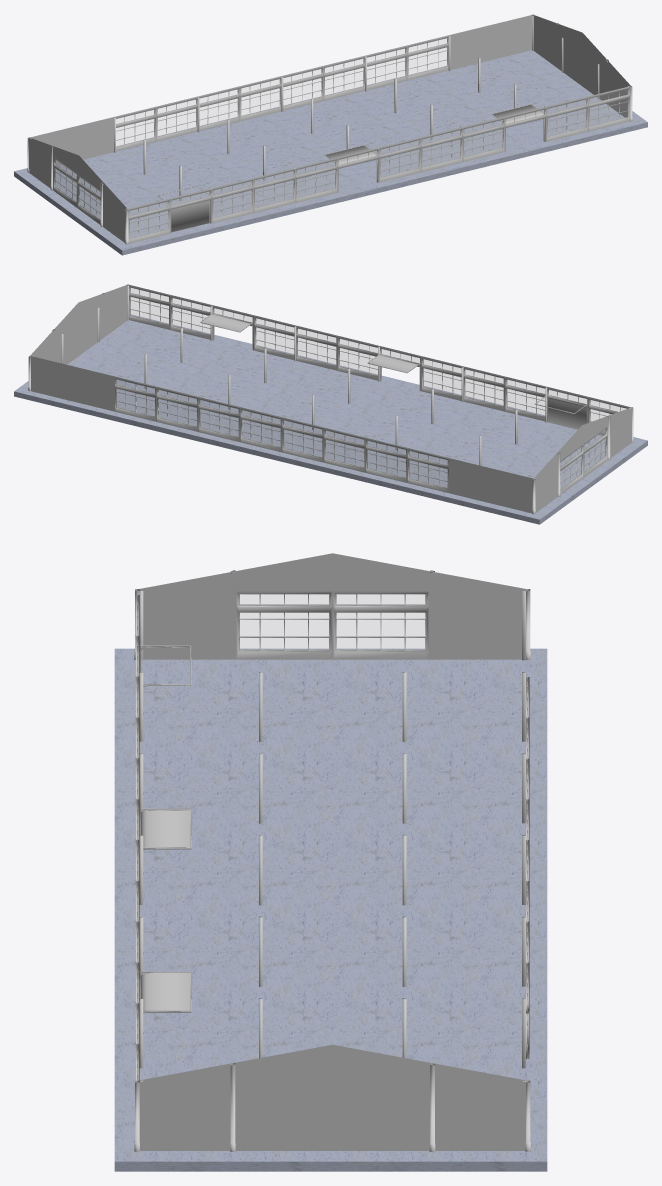
The model's file is wharehouse_no_roof.dae.
3 renders of one model, top to bottom at view 1: azimuth 30°, elevation 25°; view 2: azimuth 150°, elevation 25°; view 3: azimuth 270°, elevation 25°, orthographic. The views are drawn at different scales.
Visible parts, largest first — view 1: Floor, wall011, wall010, wall005, Gates_closed001, glass007, glass002, glass008, glass011, wall015, wall014, glass010 (+48 smaller); view 2: Floor, wall010, wall011, wall005, wall004, Gates_closed001, glass014, glass013, glass011, wall012, glass016, wall013 (+43 smaller); view 3: Floor, wall014, wall013, wall003, wall012, wall015, wall, glass021, glass020, wall_roof_pt006, wall_roof_pt008, wall_roof_pt004 (+17 smaller).
Part boxes in pixels (<box>): Floor: <box>14,50,647,255</box>; wall011: <box>490,15,531,59</box>; wall010: <box>448,25,490,69</box>; wall005: <box>71,117,113,159</box>; Gates_closed001: <box>157,185,209,232</box>; glass007: <box>422,130,460,166</box>; glass002: <box>213,181,251,217</box>; glass008: <box>464,120,502,156</box>; glass011: <box>116,110,153,146</box>; wall015: <box>533,15,556,67</box>; wall014: <box>556,33,580,84</box>; glass010: <box>548,100,585,135</box>; Floor: <box>14,314,647,524</box>; wall010: <box>72,366,115,411</box>; wall011: <box>31,356,73,401</box>; wall005: <box>449,458,491,503</box>; wall004: <box>491,468,533,513</box>; Gates_closed001: <box>534,394,587,429</box>; glass014: <box>200,400,238,436</box>; glass013: <box>242,410,280,446</box>; glass011: <box>409,451,447,487</box>; wall012: <box>104,285,127,337</box>; glass016: <box>326,431,363,466</box>; wall013: <box>80,303,104,354</box>; Floor: <box>114,648,547,1171</box>; wall014: <box>332,1082,429,1150</box>; wall013: <box>236,1082,332,1150</box>; wall003: <box>429,589,525,659</box>; wall012: <box>139,1080,235,1150</box>; wall015: <box>429,1080,525,1150</box>; wall: <box>139,589,235,659</box>; glass021: <box>240,594,328,649</box>; glass020: <box>337,594,424,649</box>; wall_roof_pt006: <box>332,1045,429,1082</box>; wall_roof_pt008: <box>236,1044,332,1082</box>; wall_roof_pt004: <box>332,553,429,590</box>.
Bounding box in the file's own units: 96.13 × 34.27 × 10.03.
